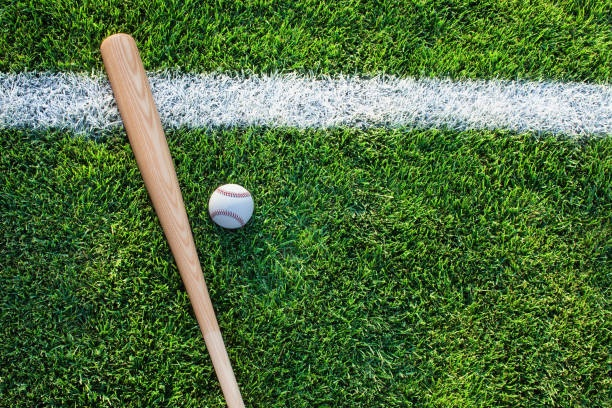bita: (98, 32, 245, 408)
